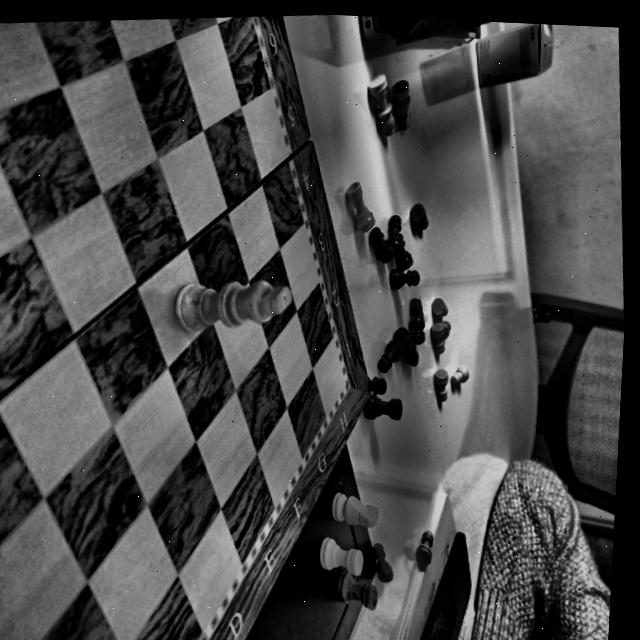white-king: (171, 262, 300, 348)
